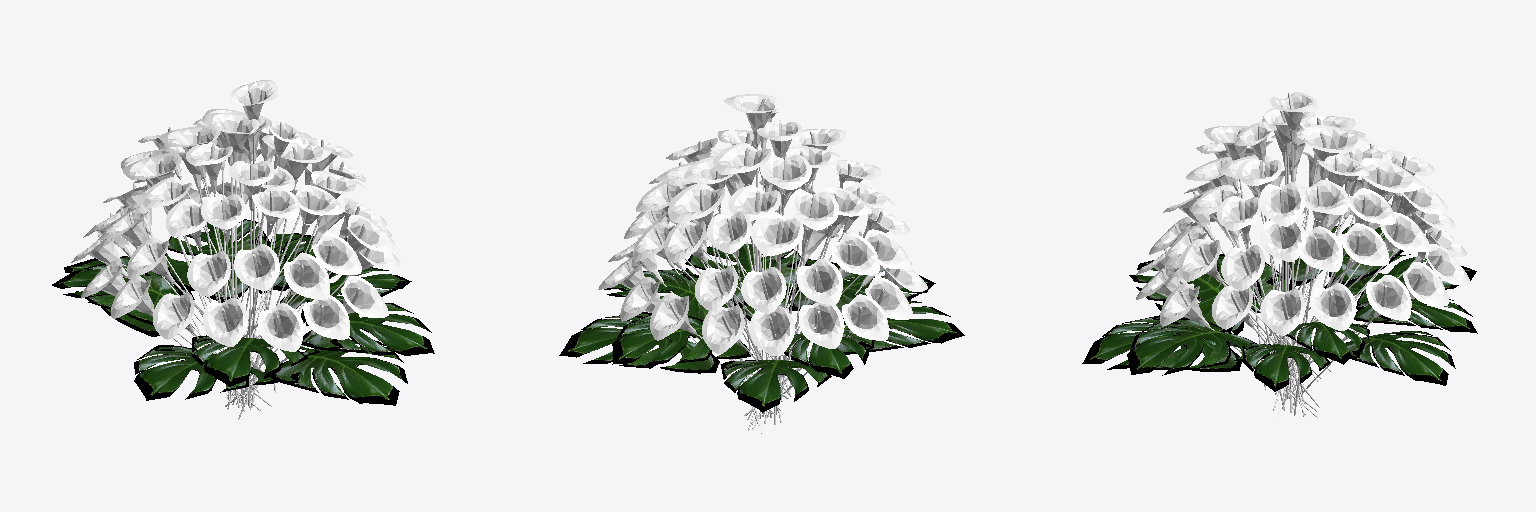
3 views of the same model, side by side, from view 1: azimuth 30°, elevation 25°; view 2: azimuth 150°, elevation 25°; view 3: azimuth 270°, elevation 25° (orthographic).
Parts seen in each view (by area): view 1: Plane02, Plane64, Plane61, Plane63, Plane65, Plane66, Plane45, Plane46, Plane34, Plane35, Plane42, Plane36 (+28 smaller); view 2: Plane60, Plane66, Plane59, Plane61, Plane65, Plane51, Plane12, Plane50, Plane13, Plane39, Plane49, Plane40 (+28 smaller); view 3: Plane64, Plane59, Plane02, Plane58, Plane66, Plane62, Plane56, Plane57, Plane19, Plane55, Plane13, Plane26 (+28 smaller).
Part boxes in pixels (bbox=[...]): Plane02: bbox=[270, 340, 407, 405]; Plane64: bbox=[301, 303, 434, 355]; Plane61: bbox=[134, 345, 277, 400]; Plane63: bbox=[191, 335, 319, 386]; Plane65: bbox=[52, 264, 182, 325]; Plane66: bbox=[165, 219, 270, 290]; Plane45: bbox=[258, 303, 303, 351]; Plane46: bbox=[203, 298, 247, 346]; Plane34: bbox=[283, 253, 329, 299]; Plane35: bbox=[234, 244, 279, 290]; Plane42: bbox=[303, 295, 349, 339]; Plane36: bbox=[187, 251, 230, 296]; Plane60: bbox=[721, 360, 831, 412]; Plane66: bbox=[612, 315, 752, 366]; Plane59: bbox=[559, 312, 719, 373]; Plane61: bbox=[837, 300, 964, 354]; Plane65: bbox=[784, 330, 874, 378]; Plane51: bbox=[749, 306, 794, 356]; Plane12: bbox=[751, 212, 803, 255]; Plane50: bbox=[799, 302, 844, 348]; Plane13: bbox=[668, 183, 724, 224]; Plane39: bbox=[797, 259, 842, 304]; Plane49: bbox=[842, 294, 888, 340]; Plane40: bbox=[741, 267, 786, 313]; Plane64: bbox=[1127, 318, 1269, 375]; Plane59: bbox=[1345, 331, 1455, 385]; Plane02: bbox=[1082, 315, 1241, 371]; Plane58: bbox=[1242, 343, 1330, 391]; Plane66: bbox=[1354, 299, 1477, 333]; Plane62: bbox=[1286, 322, 1369, 364]; Plane56: bbox=[1311, 283, 1355, 330]; Plane57: bbox=[1260, 289, 1305, 335]; Plane19: bbox=[1259, 182, 1304, 226]; Plane55: bbox=[1366, 275, 1411, 320]; Plane13: bbox=[1361, 158, 1422, 196]; Plane26: bbox=[1221, 245, 1264, 290].
Bounding box in the file's own units: 1400 × 1409 × 1562.
Materials: 4 (1 with a texture image).